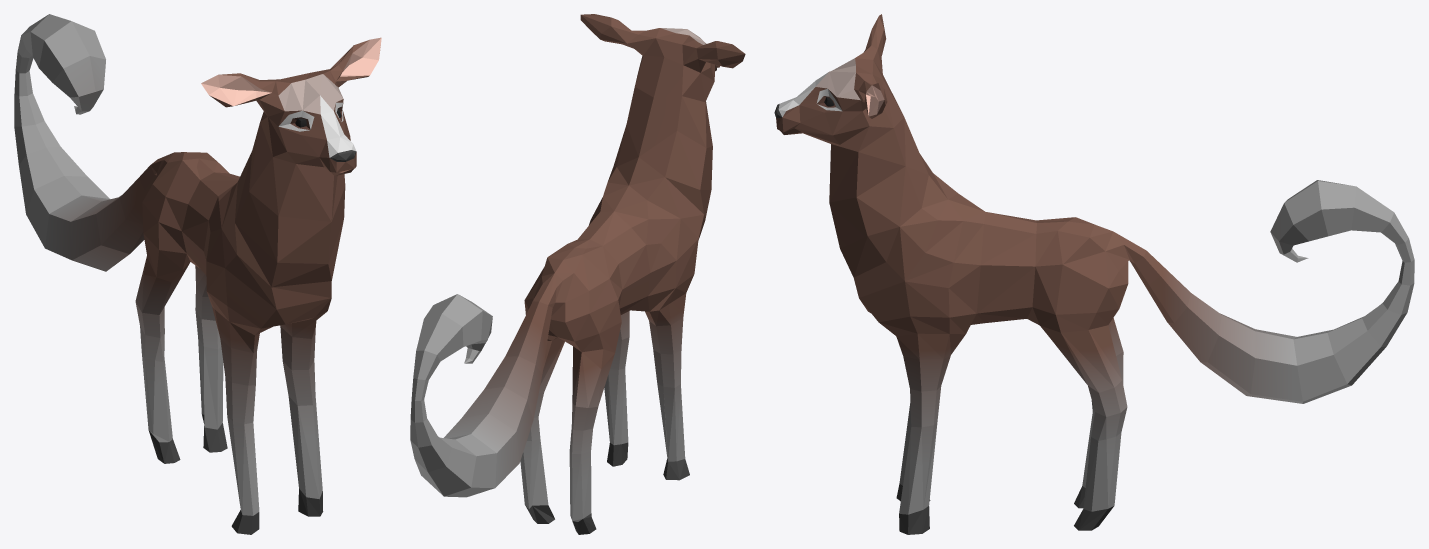
Rendered from animal_023.fbx.
3 views of the same model, side by side, from view 1: azimuth 30°, elevation 25°; view 2: azimuth 150°, elevation 25°; view 3: azimuth 270°, elevation 25° (orthographic). The views are drawn at different scales.
Visible parts, largest first — view 1: animal.052; view 2: animal.052; view 3: animal.052.
Part boxes in pixels (x1,y1,x2,y2): animal.052: (14, 14, 381, 534); animal.052: (410, 14, 745, 534); animal.052: (774, 14, 1414, 534).
Bounding box in the file's own units: 180 × 449 × 564.
1 material, 1 textured.
